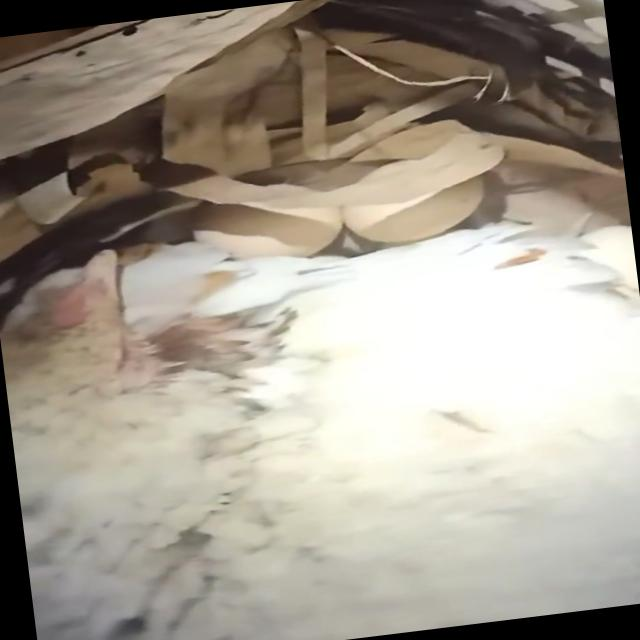crouch chicken: (0, 171, 640, 640)
